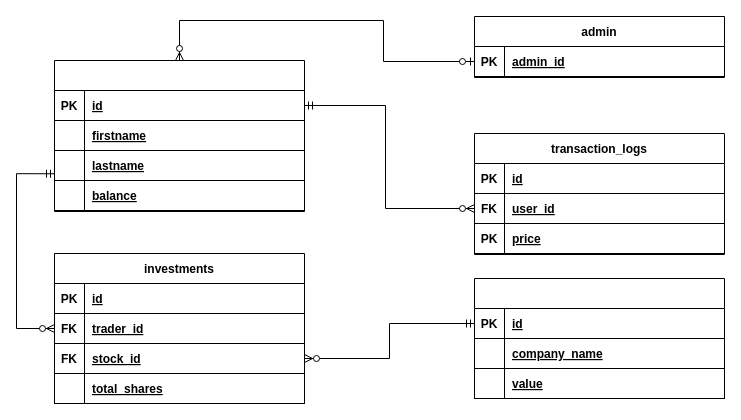
The diagram is 741 pixels wide and 420 high, and some of its shapes have lost their labels. Each missing label, with the box of its shape:
stocks: (474, 278, 724, 398)
traders(User): (54, 60, 304, 212)
